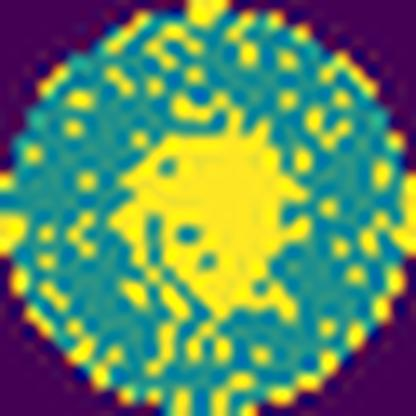Center: (117, 117, 317, 322)
